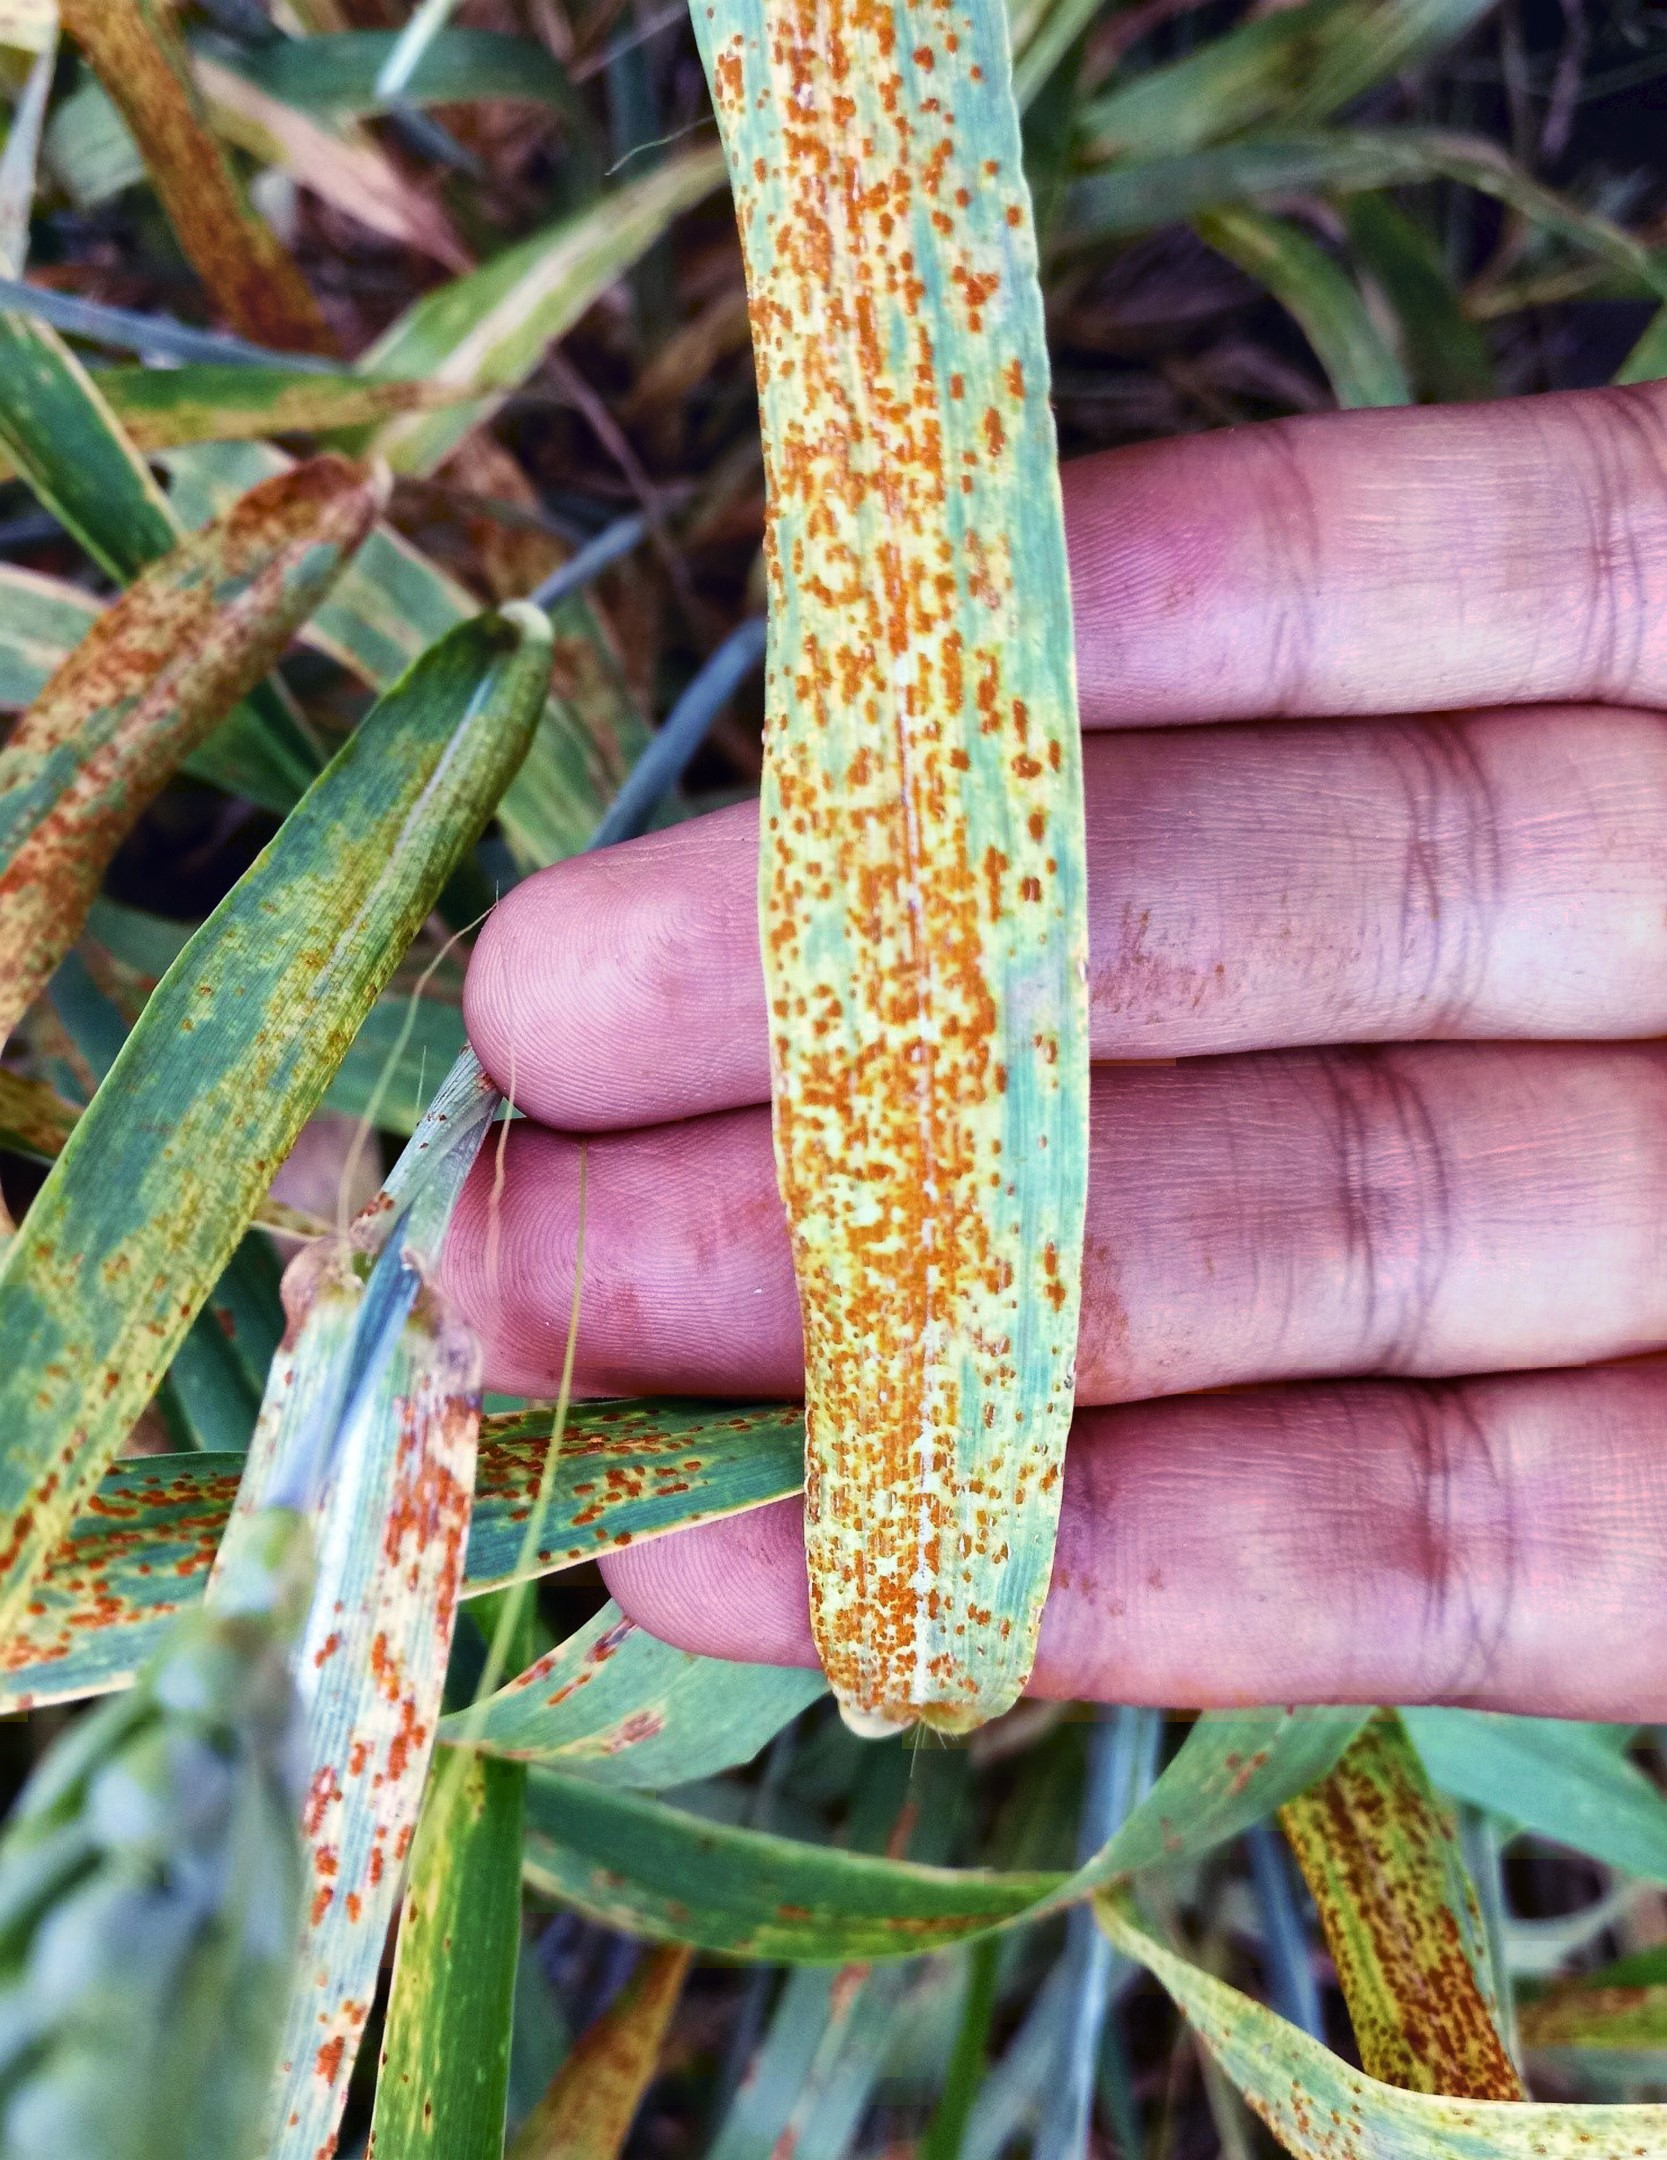Leaf Rust: (692, 5, 1110, 1605)
